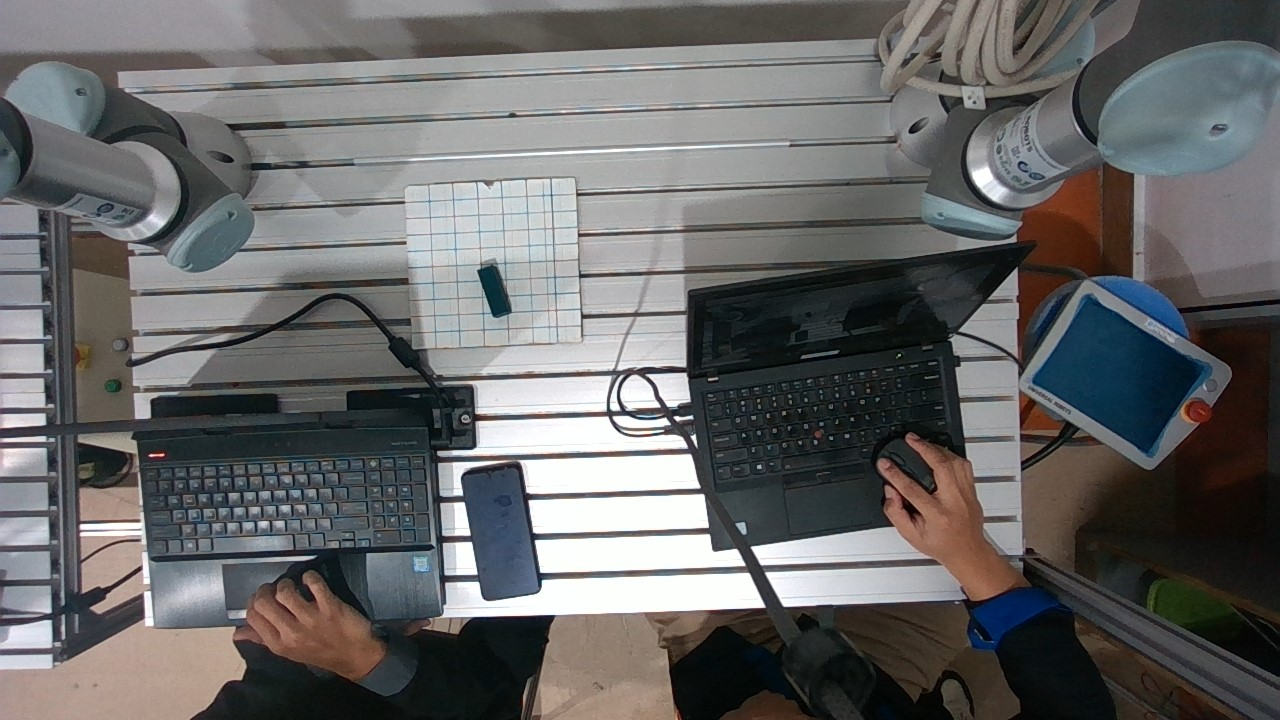box: (468, 258, 524, 325)
